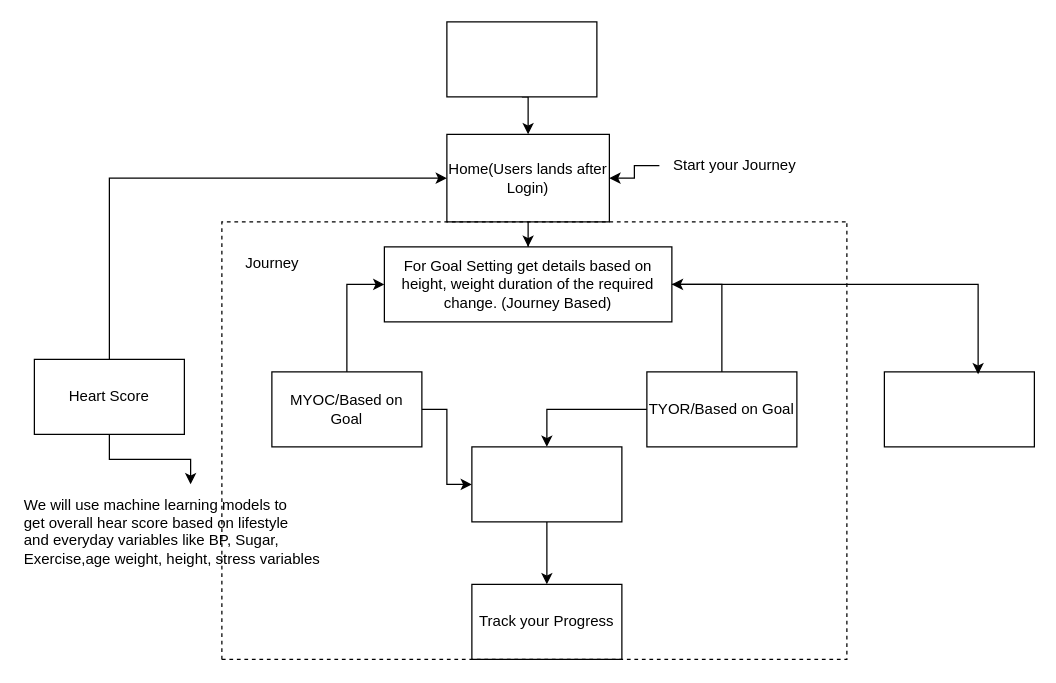
The diagram is 1056 pixels wide and 683 high, and some of its shapes have lost their labels. The centre of each missing label's shape, as x and y in pixels:
Nutritionist Support/Trainer Support: (958,409)
Once the plan is ready: (546,484)
User Login: (521,59)
